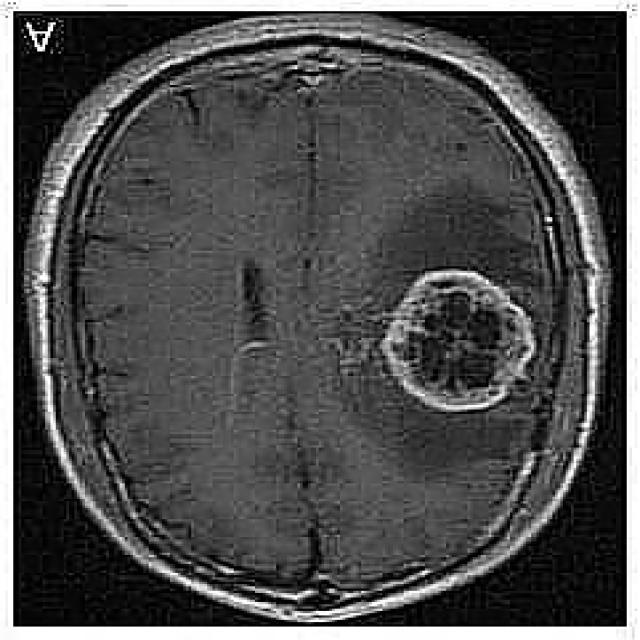Tumor-Cell: (364, 278, 513, 409)
